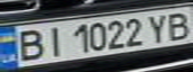0: (87, 19, 109, 52)
1: (66, 20, 90, 54)
2: (106, 16, 130, 51), (124, 15, 148, 47)
B: (9, 26, 48, 62), (163, 9, 193, 40)
I: (39, 24, 69, 57)
Y: (142, 11, 172, 44)
